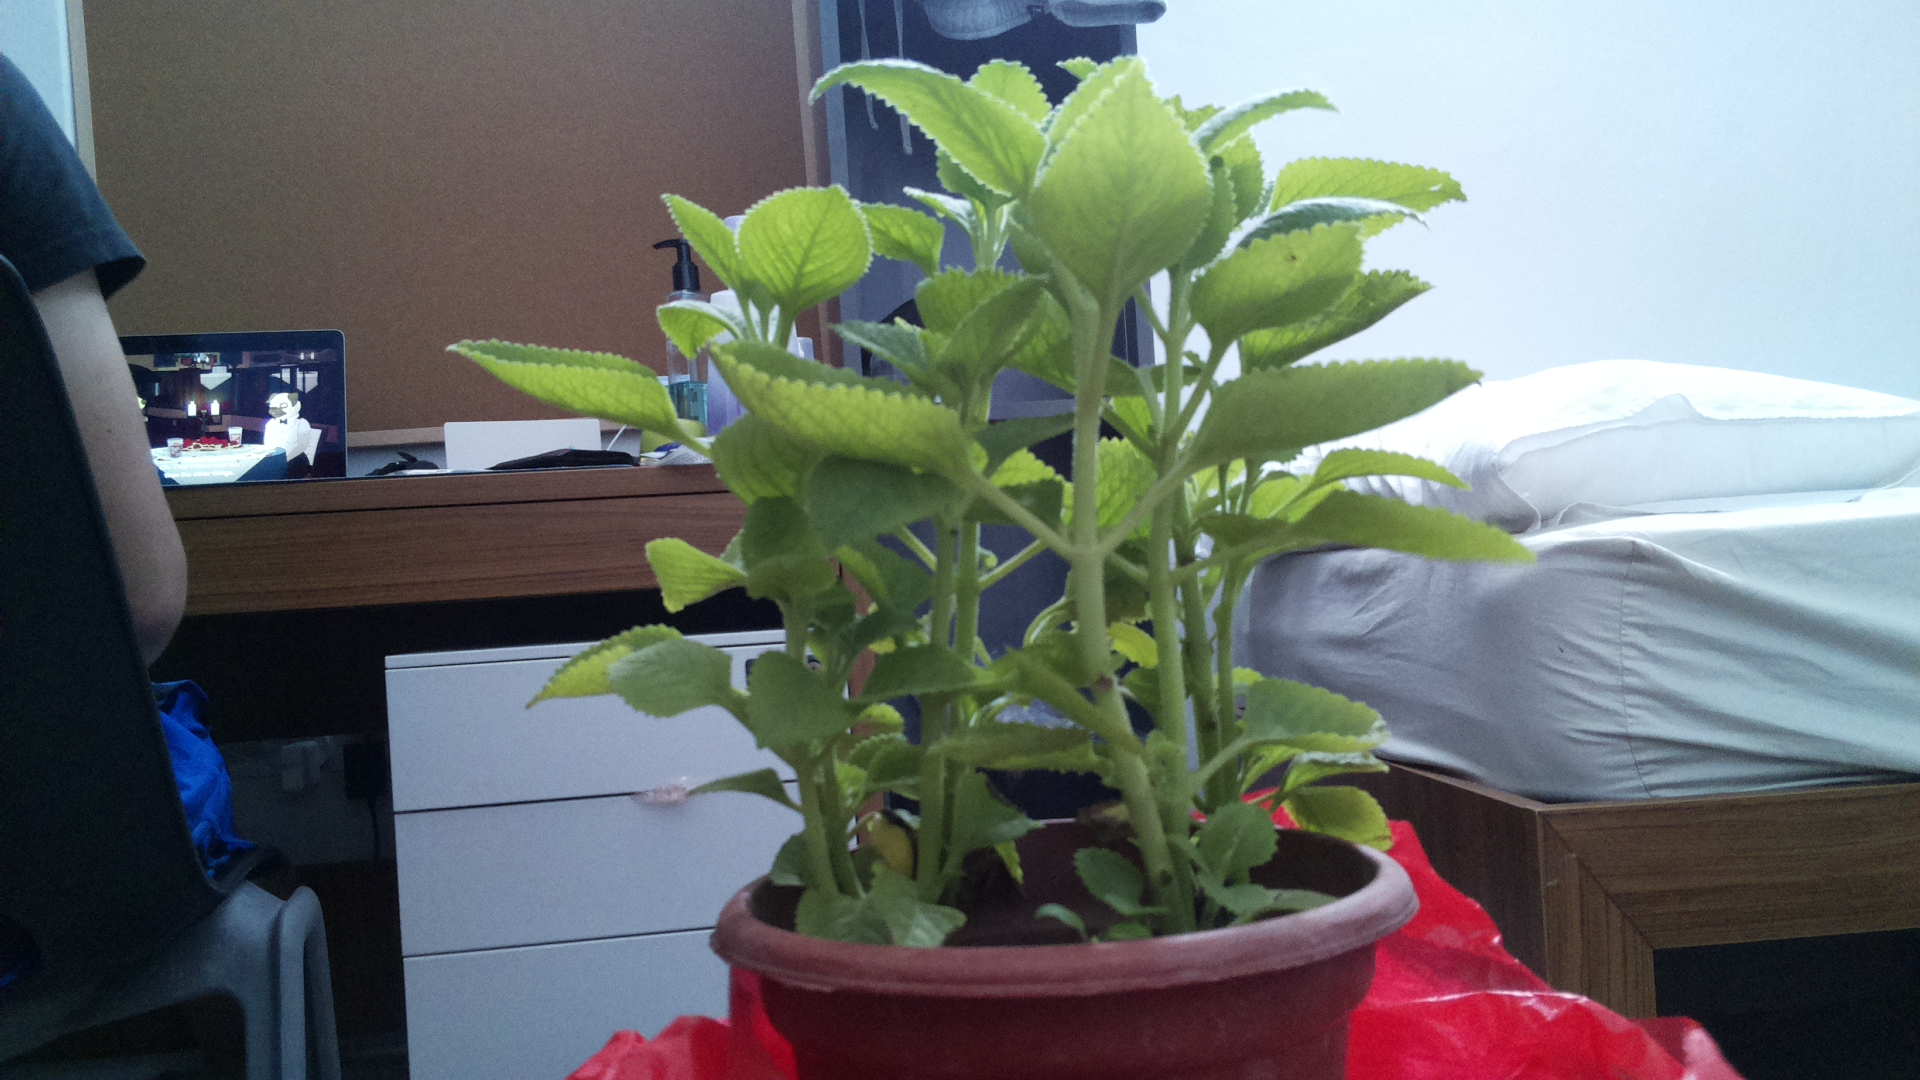leaf: (796, 34, 1056, 219), (1033, 55, 1212, 315), (692, 342, 975, 489), (1180, 349, 1495, 471), (436, 323, 669, 465), (1187, 215, 1375, 349), (1276, 483, 1527, 574), (740, 178, 866, 313), (531, 611, 688, 705), (748, 644, 861, 756), (928, 717, 1125, 782), (1236, 683, 1389, 762), (604, 640, 735, 731), (632, 534, 760, 617)
